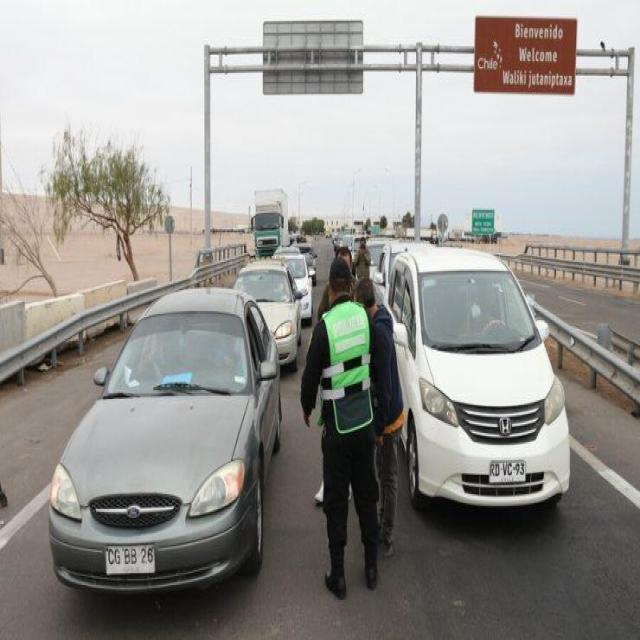patente: (104, 542, 156, 574), (488, 458, 526, 484)
